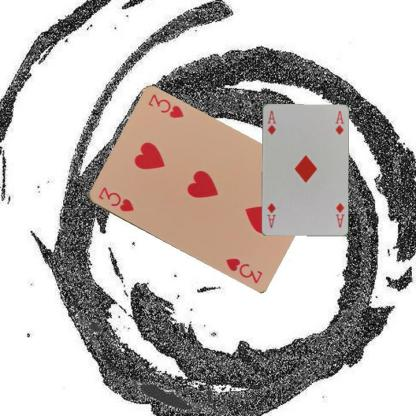3h: (96, 184, 136, 214)
Ad: (264, 107, 277, 136), (333, 200, 345, 228)
